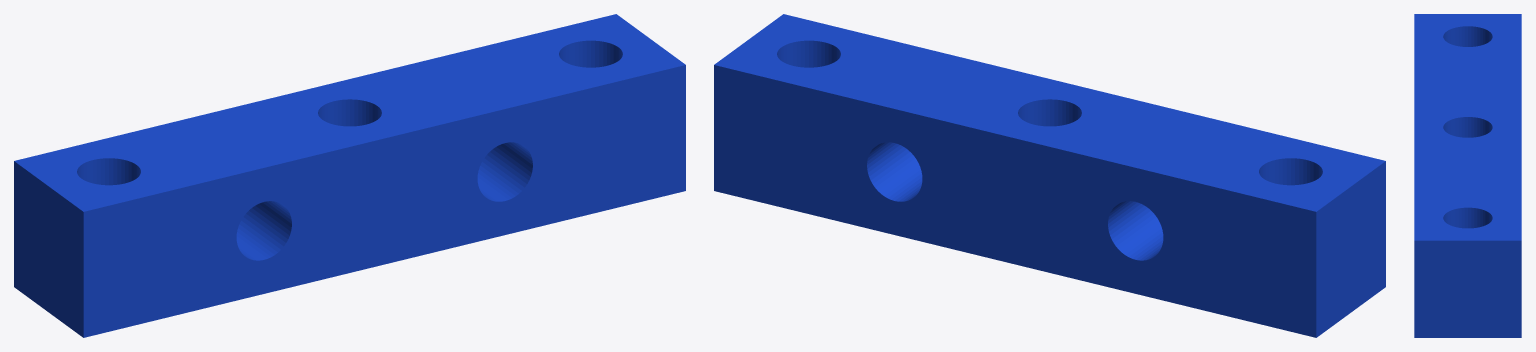
The model's file is viga-5.glb.
The picture shows the model from 3 angles, left to right: view 1: azimuth 30°, elevation 25°; view 2: azimuth 150°, elevation 25°; view 3: azimuth 270°, elevation 25°; orthographic projection. The views are drawn at different scales.
Visible parts, largest first — view 1: geometry_0; view 2: geometry_0; view 3: geometry_0.
Boxes of the visible parts, <box> form: geometry_0: <box>14,14,685,337</box>; geometry_0: <box>714,14,1385,337</box>; geometry_0: <box>1414,14,1521,337</box>.
Size of the model in its own units: 0.05 by 0.01 by 0.01.
